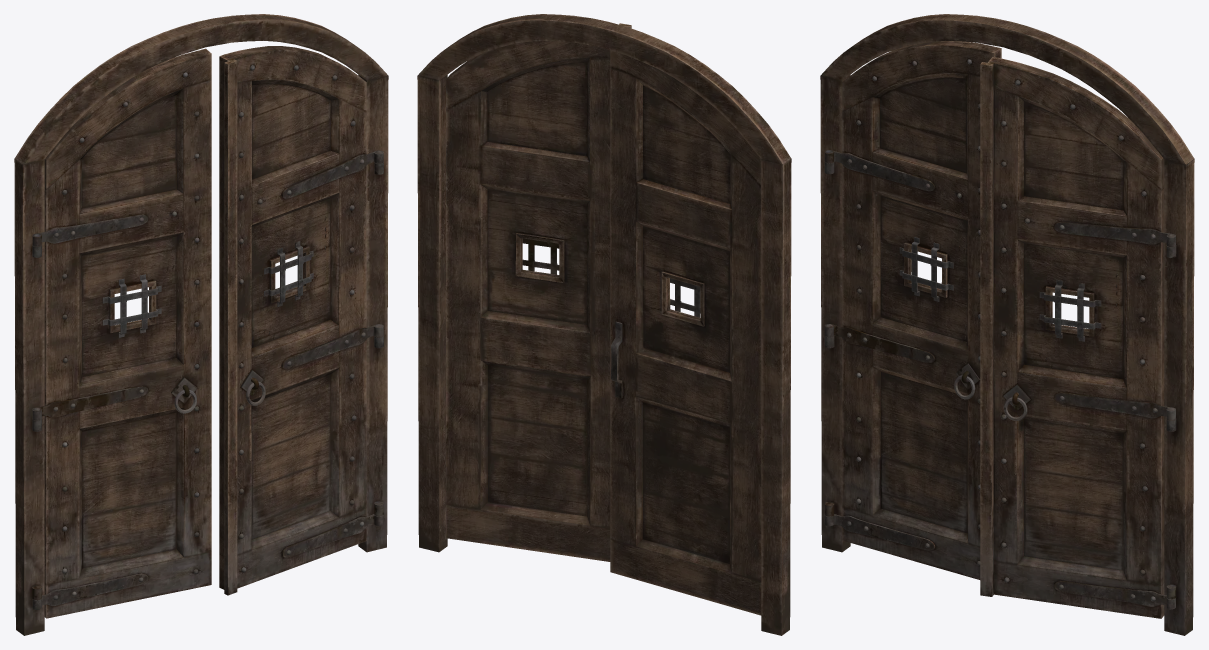
The model's file is large_castle_door.glb.
3 renders of one model, left to right at view 1: azimuth 30°, elevation 25°; view 2: azimuth 150°, elevation 25°; view 3: azimuth 330°, elevation 25°, orthographic.
Visible parts, largest first — view 1: large_castle_door_left, large_castle_door_right, large_castle_door_frame; view 2: large_castle_door_right, large_castle_door_left, large_castle_door_frame; view 3: large_castle_door_right, large_castle_door_left, large_castle_door_frame.
Part boxes in pixels (bbox=[...]): large_castle_door_left: bbox=[32, 48, 211, 618]; large_castle_door_right: bbox=[219, 46, 383, 595]; large_castle_door_frame: bbox=[14, 14, 388, 635]; large_castle_door_right: bbox=[446, 23, 631, 561]; large_castle_door_left: bbox=[610, 50, 761, 615]; large_castle_door_frame: bbox=[417, 14, 791, 635]; large_castle_door_right: bbox=[980, 57, 1175, 618]; large_castle_door_left: bbox=[824, 41, 1001, 579]; large_castle_door_frame: bbox=[820, 14, 1194, 635].
Size of the model in its own units: 2.01 by 2.96 by 0.2963.
1 material, 1 textured.
